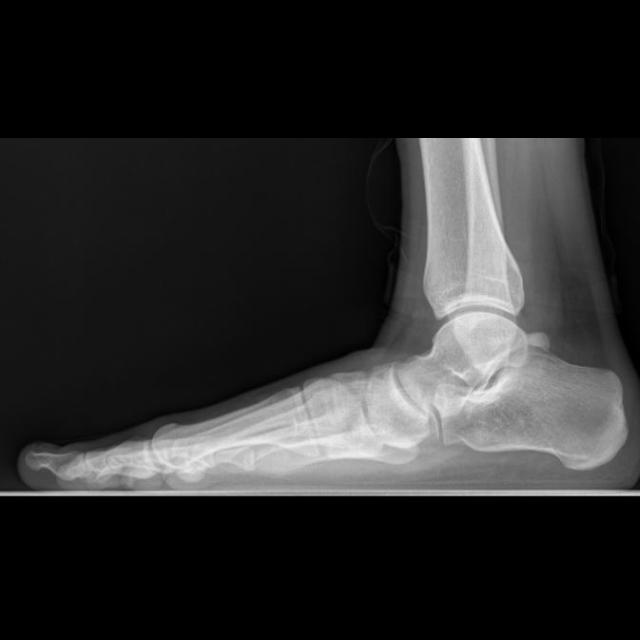a: (439, 344, 629, 469)
b: (366, 361, 433, 448)
c: (150, 386, 316, 467)
